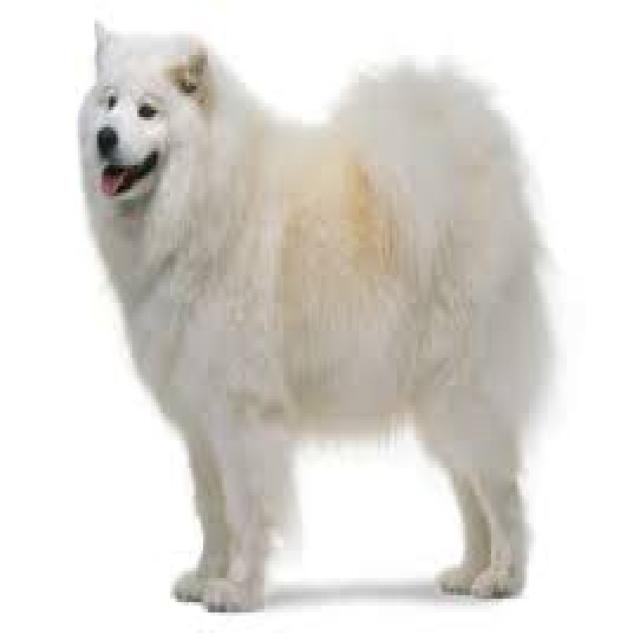dogs: (77, 19, 564, 612)
